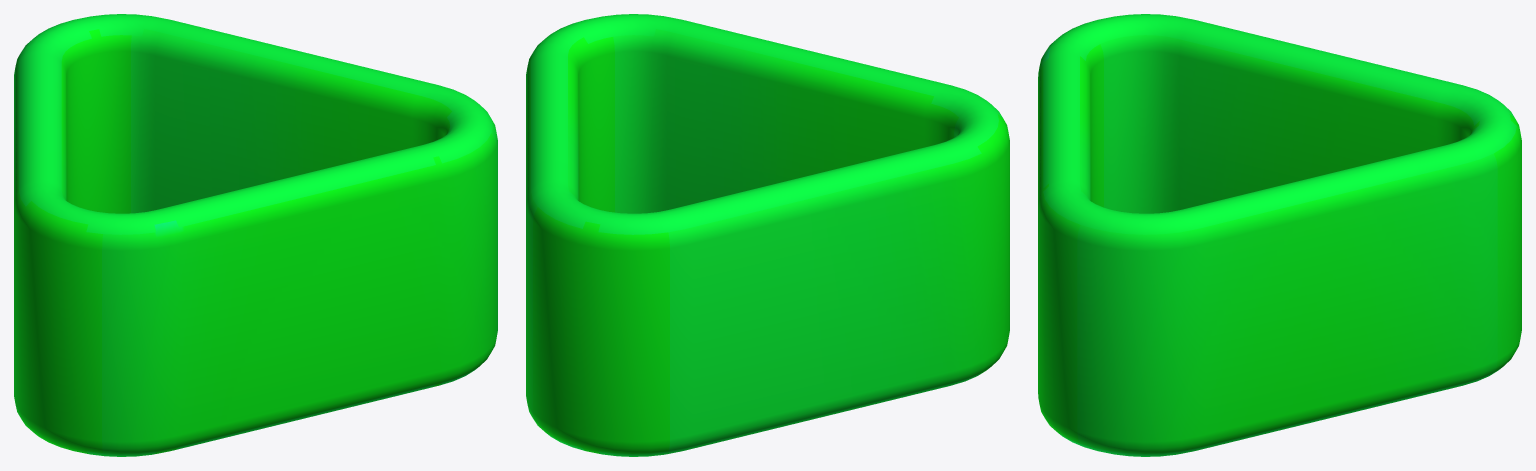
The model's file is Particle-2.dae.
3 renders of one model, left to right at view 1: azimuth 30°, elevation 25°; view 2: azimuth 150°, elevation 25°; view 3: azimuth 270°, elevation 25°, orthographic.
Parts seen in each view (by area): view 1: Particle; view 2: Particle; view 3: Particle.
Part boxes in pixels (left/top/right/bottom): Particle: left=14, top=14, right=497, bottom=456; Particle: left=526, top=14, right=1009, bottom=456; Particle: left=1038, top=14, right=1521, bottom=456.
Bounding box in the file's own units: 0.1197 × 0.06 × 0.1102.
Materials: 1 (1 with a texture image).
